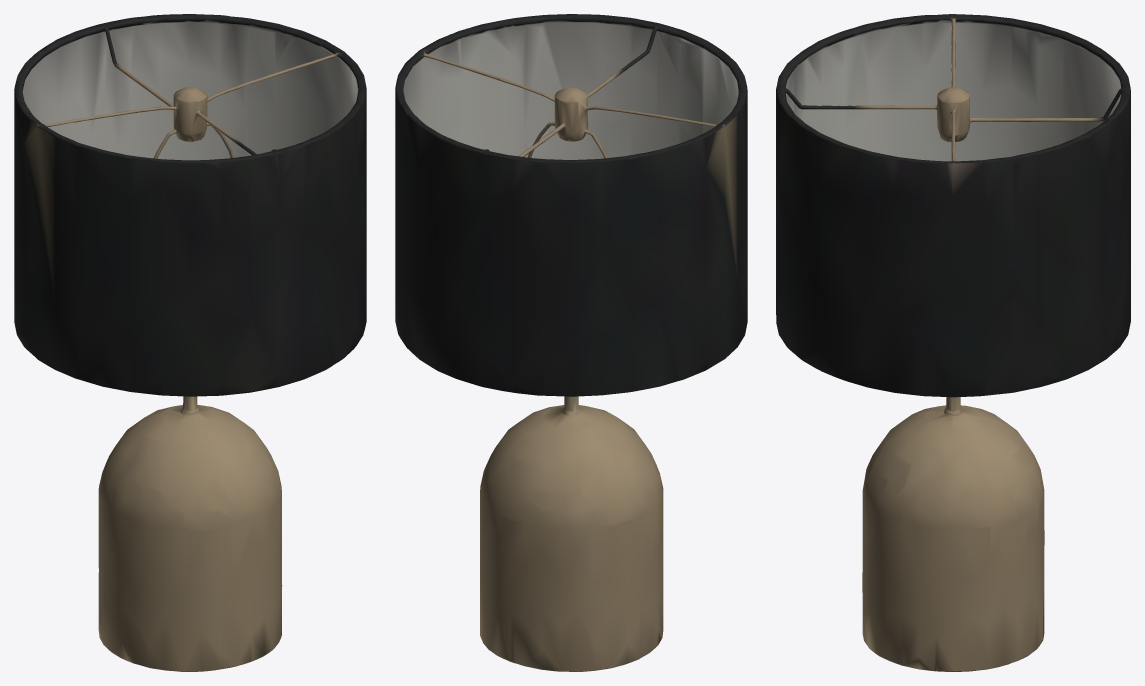
The model's file is lampara.glb.
3 renders of one model, left to right at view 1: azimuth 30°, elevation 25°; view 2: azimuth 150°, elevation 25°; view 3: azimuth 270°, elevation 25°, orthographic.
Size of the model in its own units: 0.5829 by 0.9922 by 0.5844.
